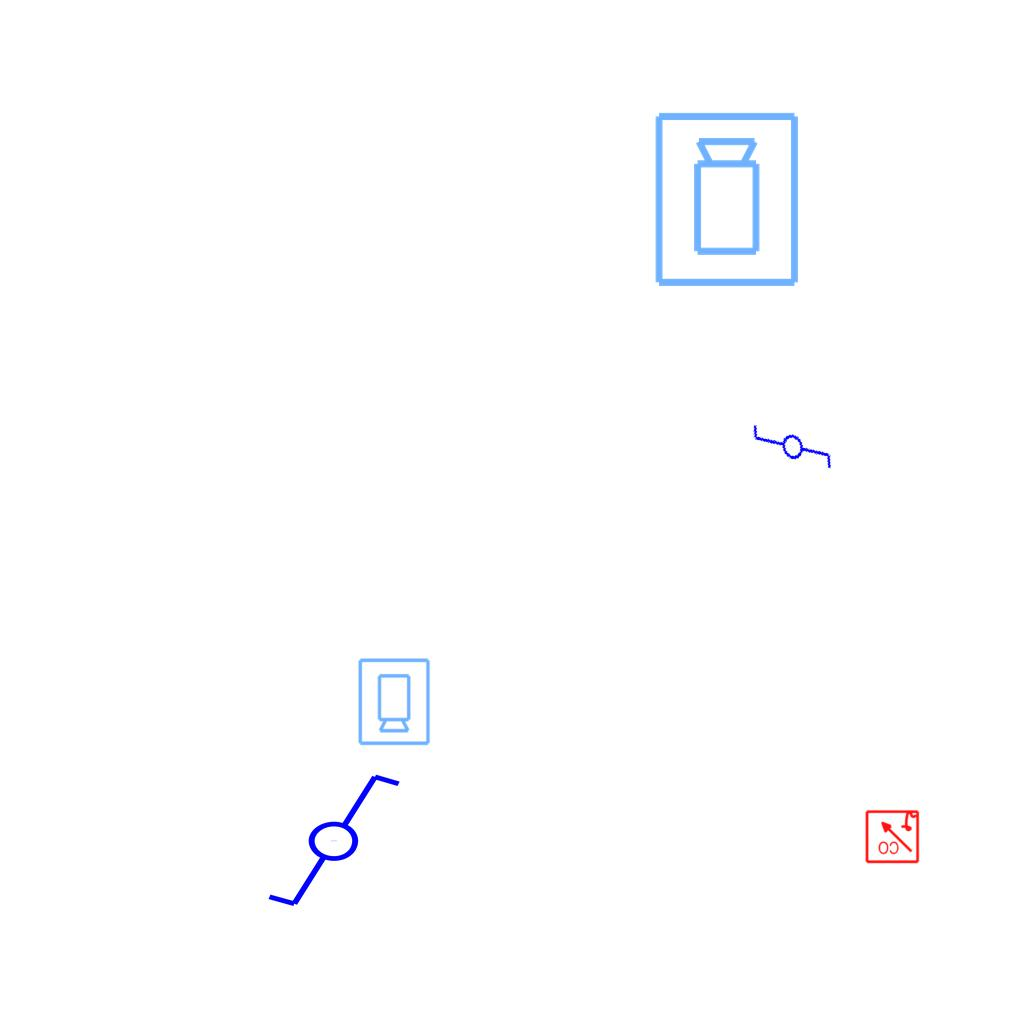KFO_Kamera_mit_Festobjektiv: (651, 109, 805, 291), (355, 656, 432, 747)
ROA_Rauchmelder_optisch_mit_Signalgeber_(Sockelsirene): (864, 808, 920, 864)
Wechselschalter: (247, 767, 404, 911), (746, 402, 840, 500)
